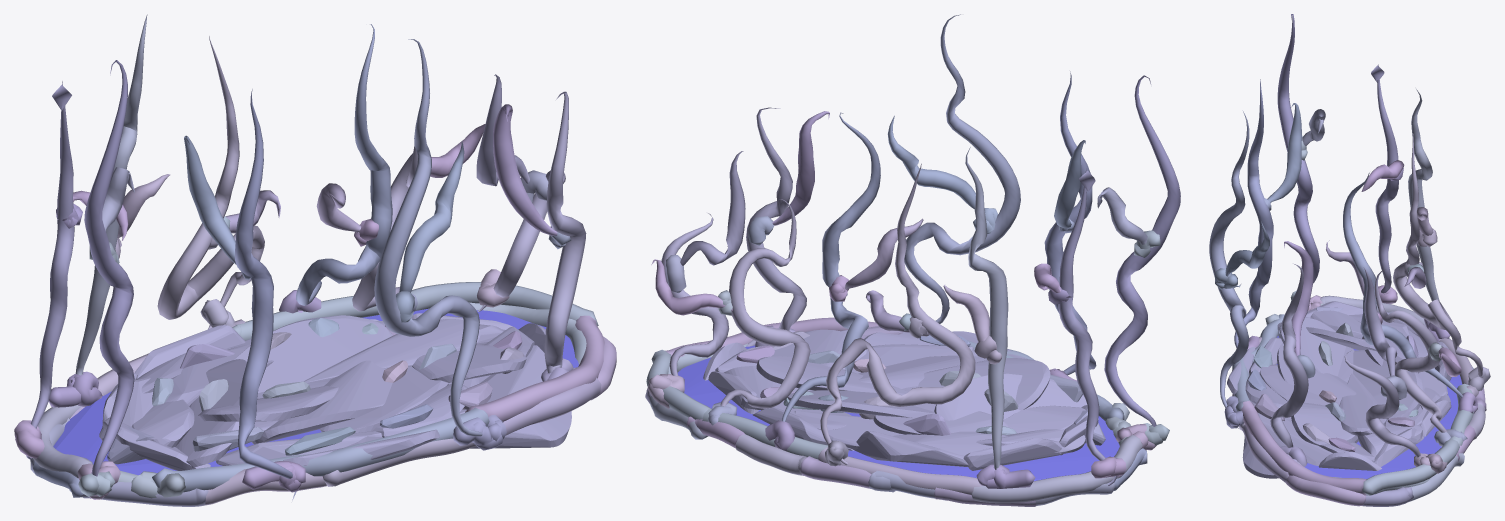
Rendered from swamp_set.fbx.
3 renders of one model, left to right at view 1: azimuth 30°, elevation 25°; view 2: azimuth 150°, elevation 25°; view 3: azimuth 270°, elevation 25°, orthographic. The views are drawn at different scales.
Visible parts, largest first — view 1: brush_Muscle_g0_b0_4, brush_MatteHull_g0_b0_0, brush_Icing_g0_b0_3, brush_Guts_g0_b0_5; view 2: brush_Muscle_g0_b0_4, brush_MatteHull_g0_b0_0, brush_Icing_g0_b0_3, brush_Guts_g0_b0_5; view 3: brush_Muscle_g0_b0_4, brush_MatteHull_g0_b0_0, brush_Icing_g0_b0_3, brush_Guts_g0_b0_5.
Boxes of the visible parts, bbox=[...] form: brush_Muscle_g0_b0_4: bbox=[26, 14, 586, 500]; brush_MatteHull_g0_b0_0: bbox=[53, 308, 578, 475]; brush_Icing_g0_b0_3: bbox=[30, 282, 616, 506]; brush_Guts_g0_b0_5: bbox=[14, 170, 576, 499]; brush_Muscle_g0_b0_4: bbox=[651, 14, 1180, 485]; brush_MatteHull_g0_b0_0: bbox=[678, 326, 1119, 481]; brush_Icing_g0_b0_3: bbox=[645, 317, 1147, 506]; brush_Guts_g0_b0_5: bbox=[647, 208, 1169, 488]; brush_Muscle_g0_b0_4: bbox=[1209, 14, 1482, 465]; brush_MatteHull_g0_b0_0: bbox=[1227, 301, 1462, 478]; brush_Icing_g0_b0_3: bbox=[1232, 295, 1486, 506]; brush_Guts_g0_b0_5: bbox=[1215, 135, 1490, 473].
Size of the model in its own units: 195 by 150 by 120.
